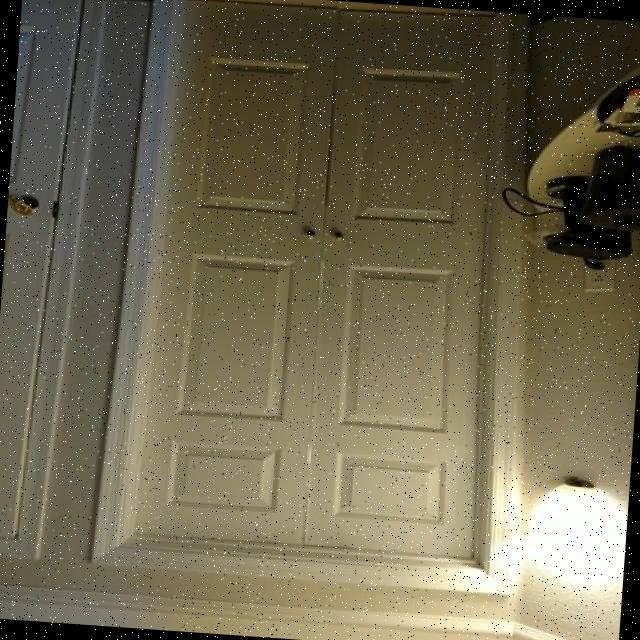Door: (118, 0, 510, 572), (0, 0, 110, 569)
